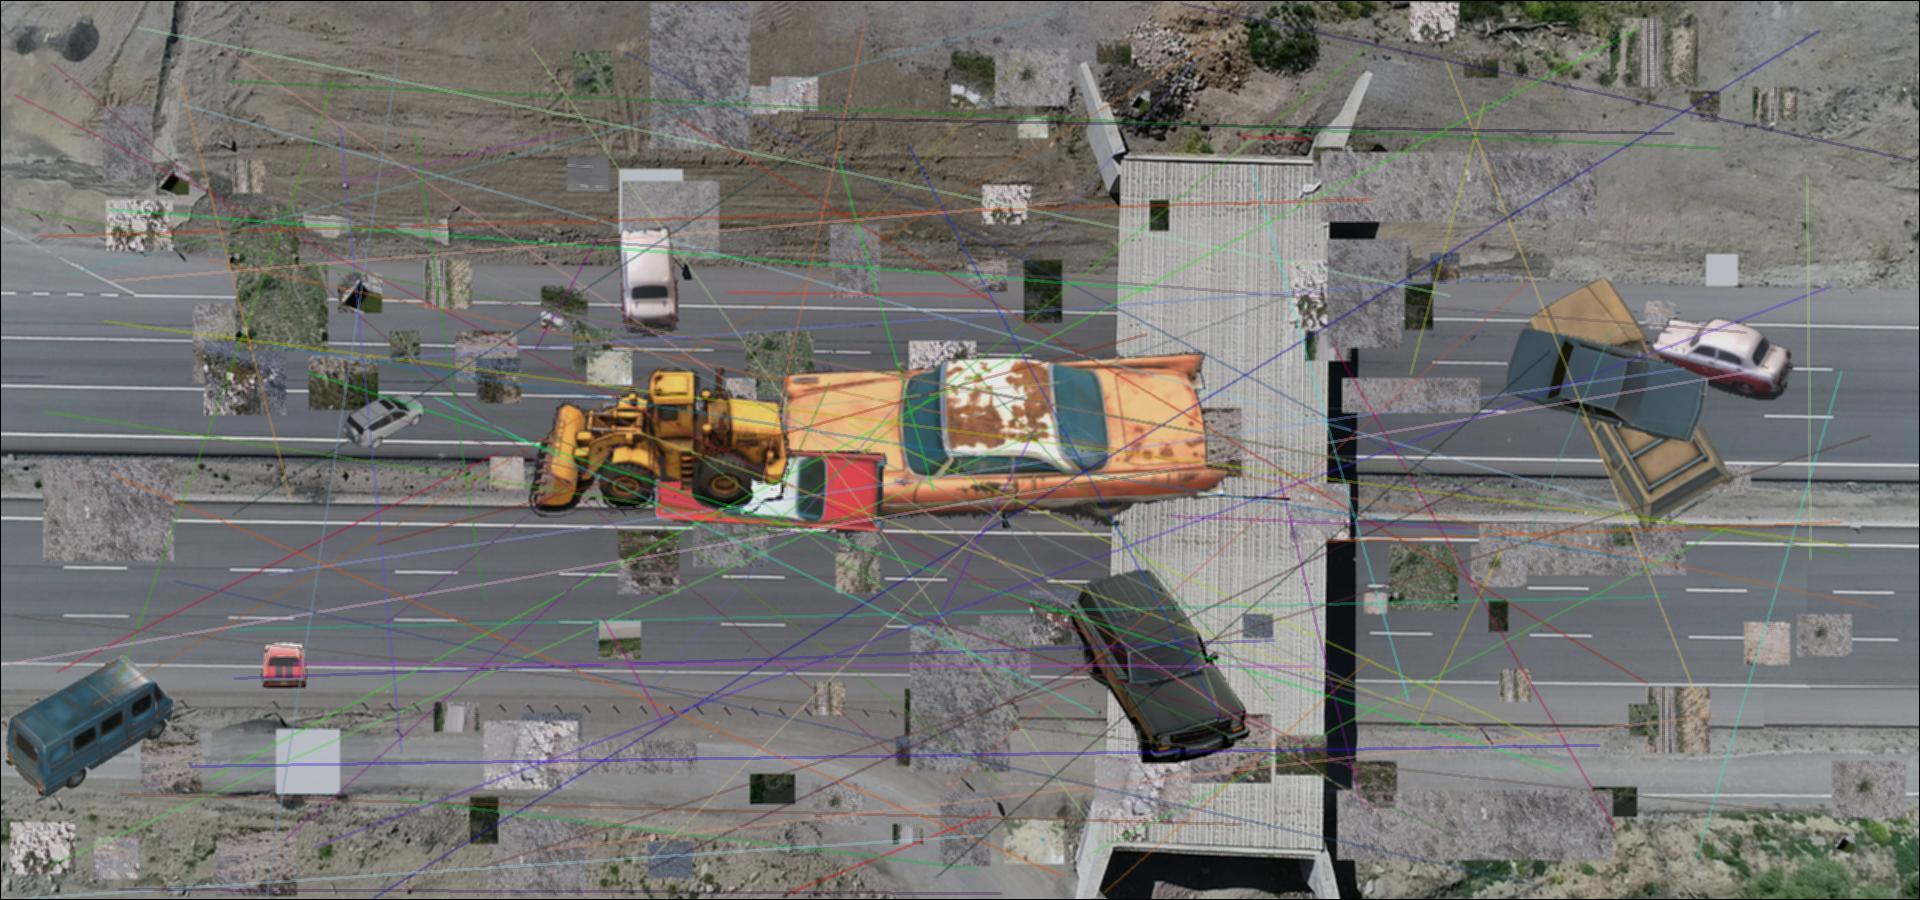arac: (756, 348, 1282, 527), (1518, 272, 1734, 538), (520, 362, 801, 517), (1063, 571, 1253, 763), (2, 651, 176, 800), (645, 435, 889, 535), (1507, 326, 1709, 442), (1642, 309, 1795, 407), (611, 225, 687, 336), (344, 389, 424, 451), (256, 639, 309, 688)
